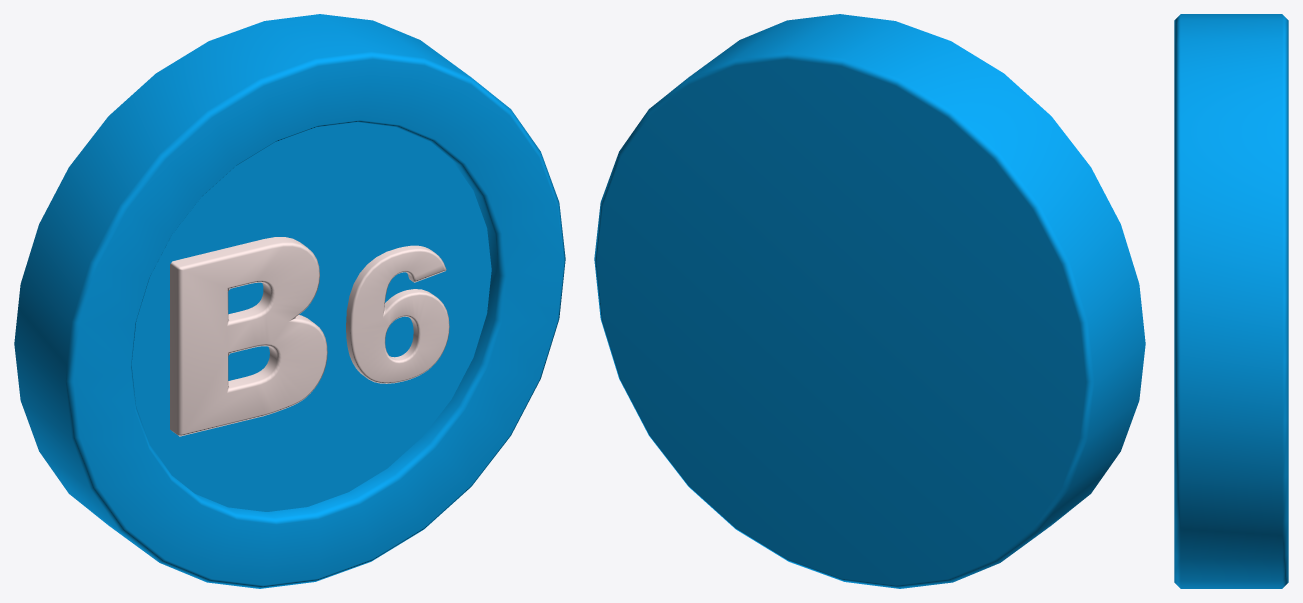
Rendered from Store_15_Vitamin_B6_1.glb.
The picture shows the model from 3 angles, left to right: view 1: azimuth 30°, elevation 25°; view 2: azimuth 150°, elevation 25°; view 3: azimuth 270°, elevation 25°; orthographic projection.
Visible parts, largest first — view 1: Store_15_Vitamin_B6_1; view 2: Store_15_Vitamin_B6_1; view 3: Store_15_Vitamin_B6_1.
Part boxes in pixels (box(x1,y1,x2,y2)): Store_15_Vitamin_B6_1: box(14, 14, 565, 588); Store_15_Vitamin_B6_1: box(594, 14, 1145, 588); Store_15_Vitamin_B6_1: box(1174, 14, 1288, 588).
Bounding box in the file's own units: 1.92 × 1.92 × 0.3815.
1 material, 1 textured.
